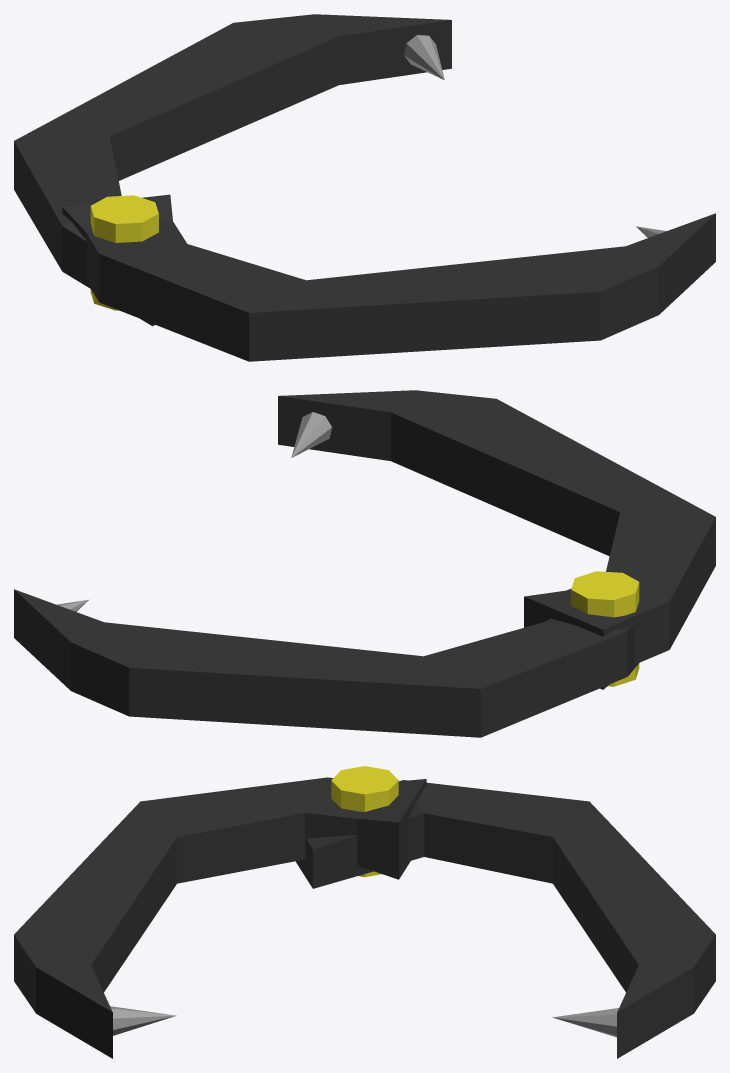
The model's file is hook.fbx.
3 renders of one model, top to bottom at view 1: azimuth 30°, elevation 25°; view 2: azimuth 150°, elevation 25°; view 3: azimuth 270°, elevation 25°, orthographic. The views are drawn at different scales.
Parts seen in each view (by area): view 1: RClaw, LClaw, screw; view 2: LClaw, RClaw, screw; view 3: RClaw, LClaw, screw.
Part boxes in pixels (<box>): RClaw: <box>62,194,715,361</box>; LClaw: <box>14,14,451,326</box>; screw: <box>90,195,158,310</box>; LClaw: <box>14,589,638,737</box>; RClaw: <box>278,390,715,689</box>; screw: <box>571,571,639,686</box>; RClaw: <box>14,777,426,1058</box>; LClaw: <box>295,780,715,1058</box>; screw: <box>331,766,398,876</box>.
Bounding box in the file's own units: 36.43 × 6.01 × 46.
